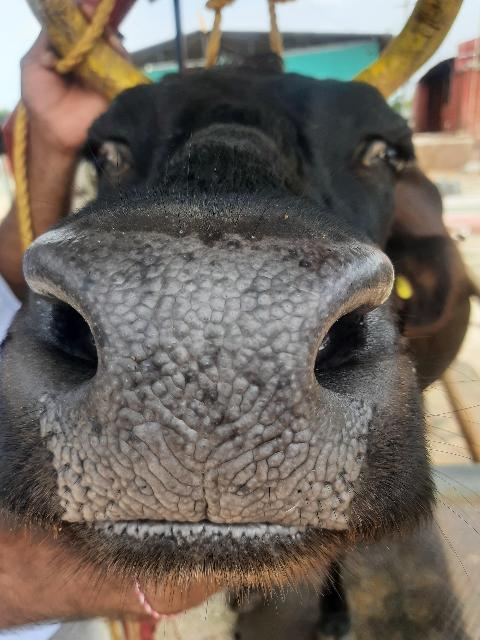Muzzle: (96, 250, 306, 520)
